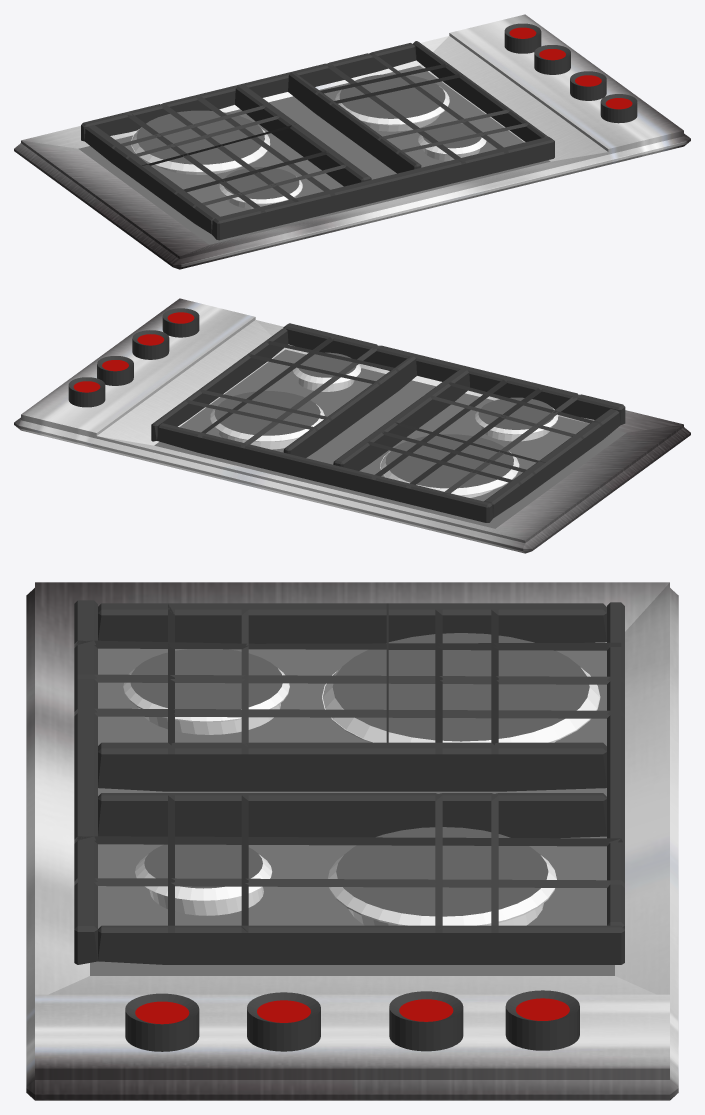
File: stove.glb
3 renders of one model, top to bottom at view 1: azimuth 30°, elevation 25°; view 2: azimuth 150°, elevation 25°; view 3: azimuth 270°, elevation 25°, orthographic. The views are drawn at different scales.
Parts seen in each view (by area): view 1: Plane.002_0, Plane.003_9, Circle.002_3, Circle.003_4, Circle.001_2, Circle_1, Cylinder.006_5, Cylinder.007_6, Cylinder.008_7, Cylinder.009_8; view 2: Plane.002_0, Plane.003_9, Circle.002_3, Circle.003_4, Circle.001_2, Circle_1, Cylinder.006_5, Cylinder.008_7, Cylinder.009_8, Cylinder.007_6; view 3: Plane.002_0, Plane.003_9, Circle.002_3, Circle.003_4, Circle.001_2, Circle_1, Cylinder.006_5, Cylinder.007_6, Cylinder.008_7, Cylinder.009_8.
Part boxes in pixels (x1,y1,x2,y2): Plane.002_0: (14, 14, 690, 269); Plane.003_9: (81, 41, 554, 240); Circle.002_3: (131, 110, 270, 174); Circle.003_4: (335, 74, 449, 131); Circle.001_2: (219, 167, 302, 209); Circle_1: (418, 123, 486, 160); Cylinder.006_5: (504, 23, 541, 53); Cylinder.007_6: (534, 45, 570, 74); Cylinder.008_7: (570, 71, 606, 100); Cylinder.009_8: (600, 94, 637, 123); Plane.002_0: (14, 298, 690, 553); Plane.003_9: (151, 323, 625, 522); Circle.002_3: (380, 434, 519, 497); Circle.003_4: (210, 391, 324, 449); Circle.001_2: (475, 397, 558, 441); Circle_1: (293, 352, 361, 391); Cylinder.006_5: (68, 377, 105, 407); Cylinder.008_7: (132, 330, 169, 359); Cylinder.009_8: (162, 308, 199, 337); Cylinder.007_6: (97, 356, 133, 385); Plane.002_0: (26, 582, 678, 1100); Plane.003_9: (74, 600, 624, 964); Circle.002_3: (322, 633, 600, 742); Circle.003_4: (328, 827, 556, 925); Circle.001_2: (123, 649, 289, 734); Circle_1: (135, 844, 272, 915); Cylinder.006_5: (505, 990, 579, 1050); Cylinder.007_6: (389, 991, 463, 1051); Cylinder.008_7: (247, 992, 320, 1051); Cylinder.009_8: (125, 993, 199, 1051).
Size of the model in its own units: 3.64 by 0.2107 by 1.99.
7 materials, 1 textured.
